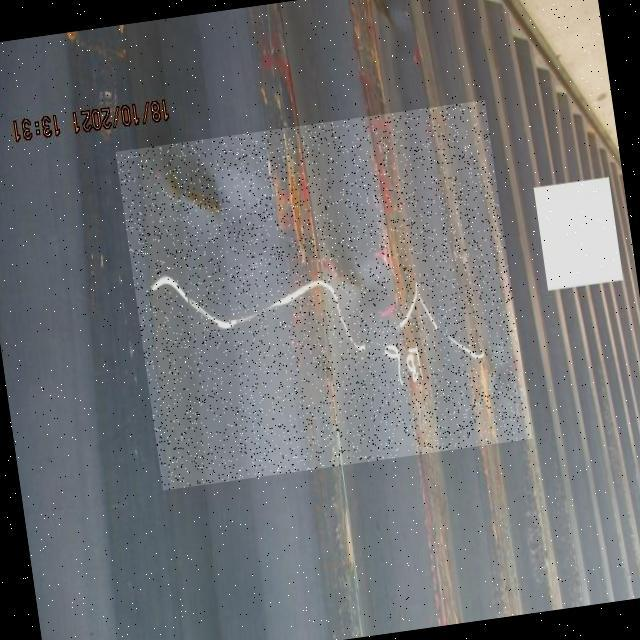Minor-Dent: (116, 100, 533, 491)
